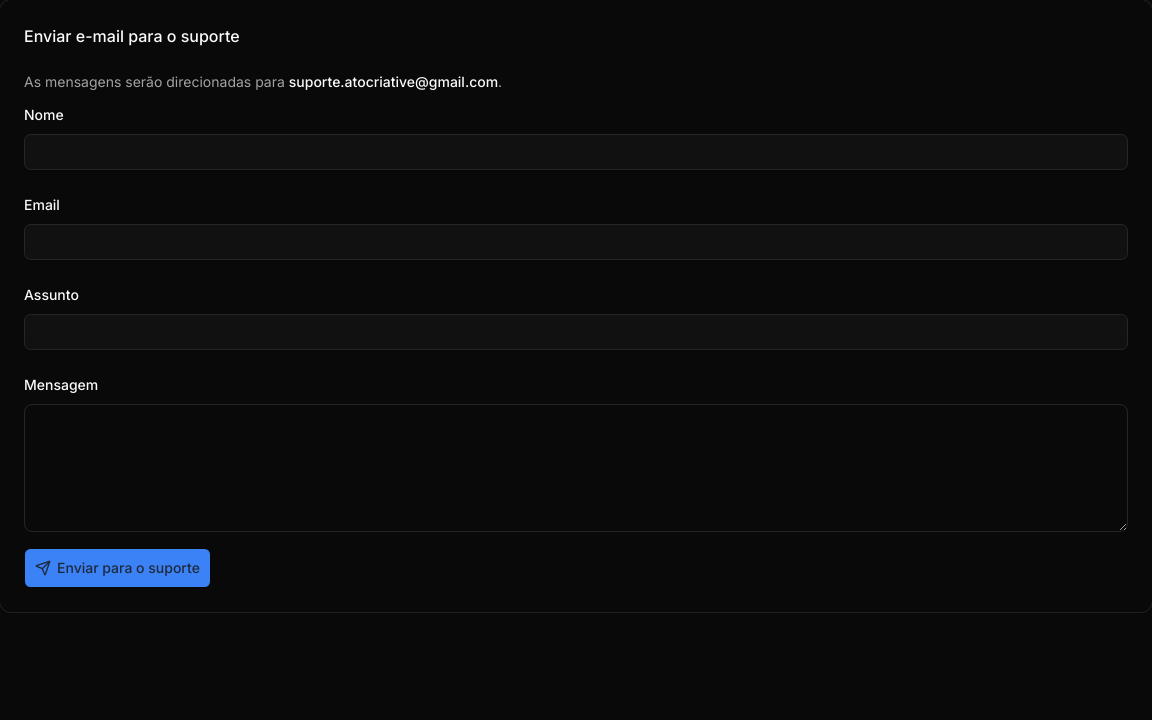
support email form › form validation › rejects empty name field
The width and height of the screenshot is (1152, 720).
Type "test@example.com" into the field labelled "Email" at {"x": 576, "y": 242}, box [24,224,1128,260]
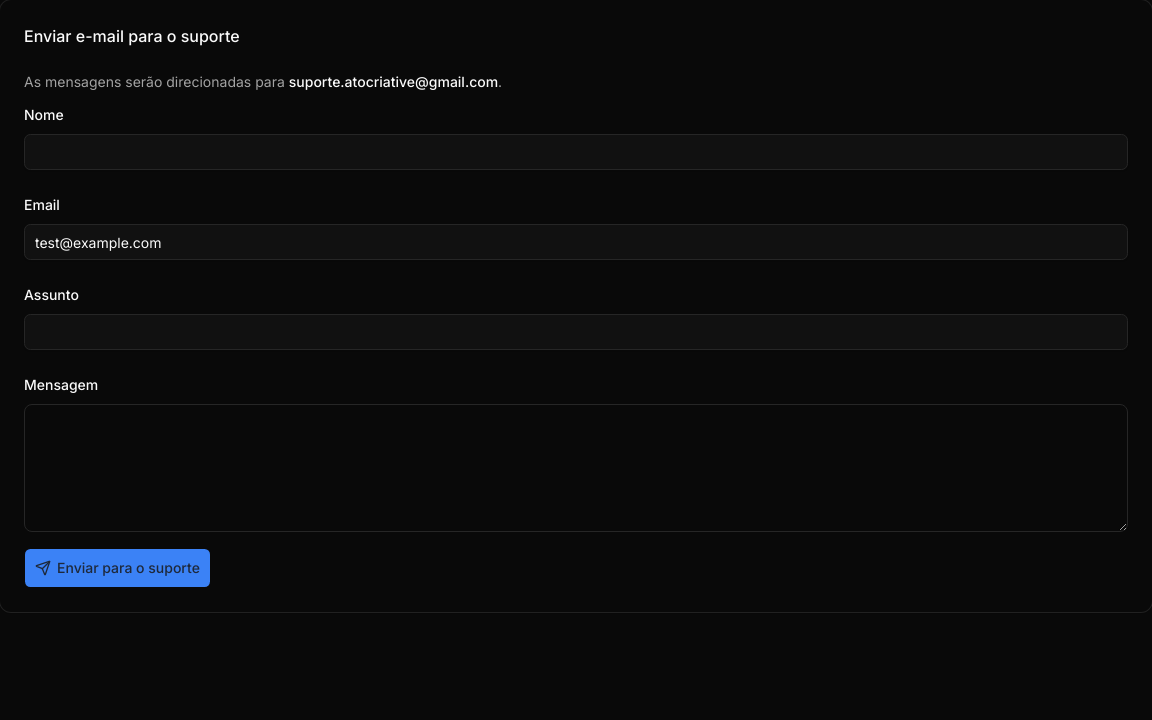
Type "Subject" into the field labelled "Assunto" at {"x": 576, "y": 332}, box [24,314,1128,350]
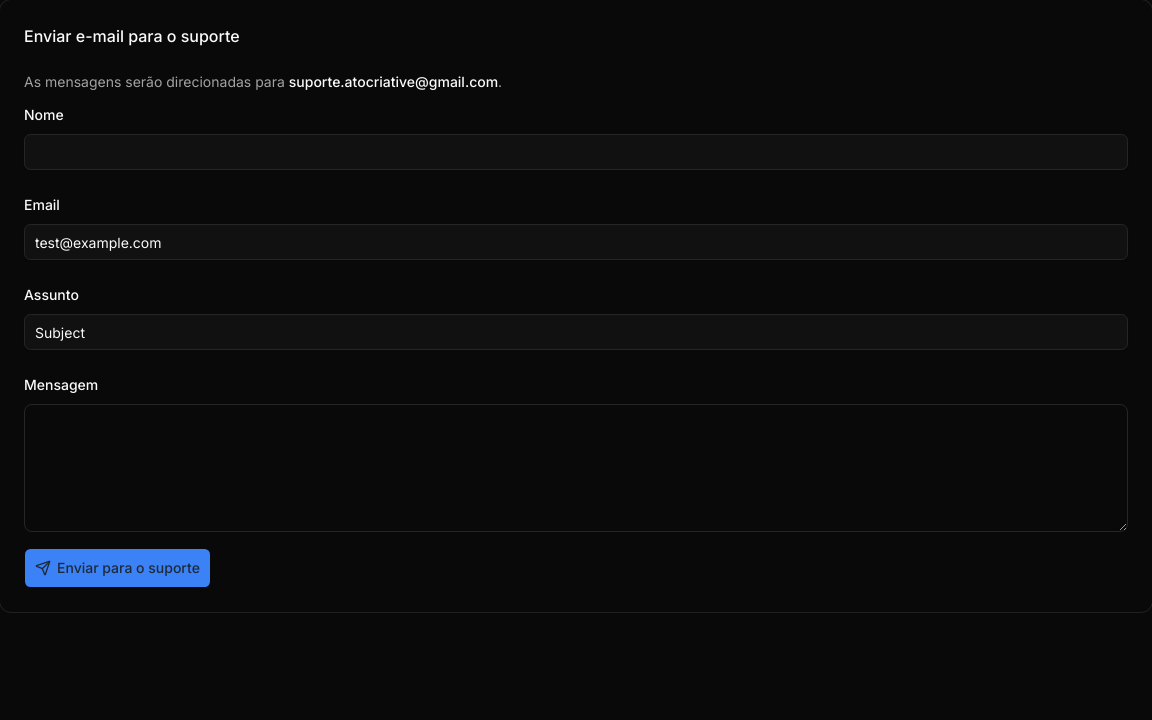
Type "Message content" into the text box labelled "Mensagem" at {"x": 576, "y": 468}, box [24,404,1128,532]
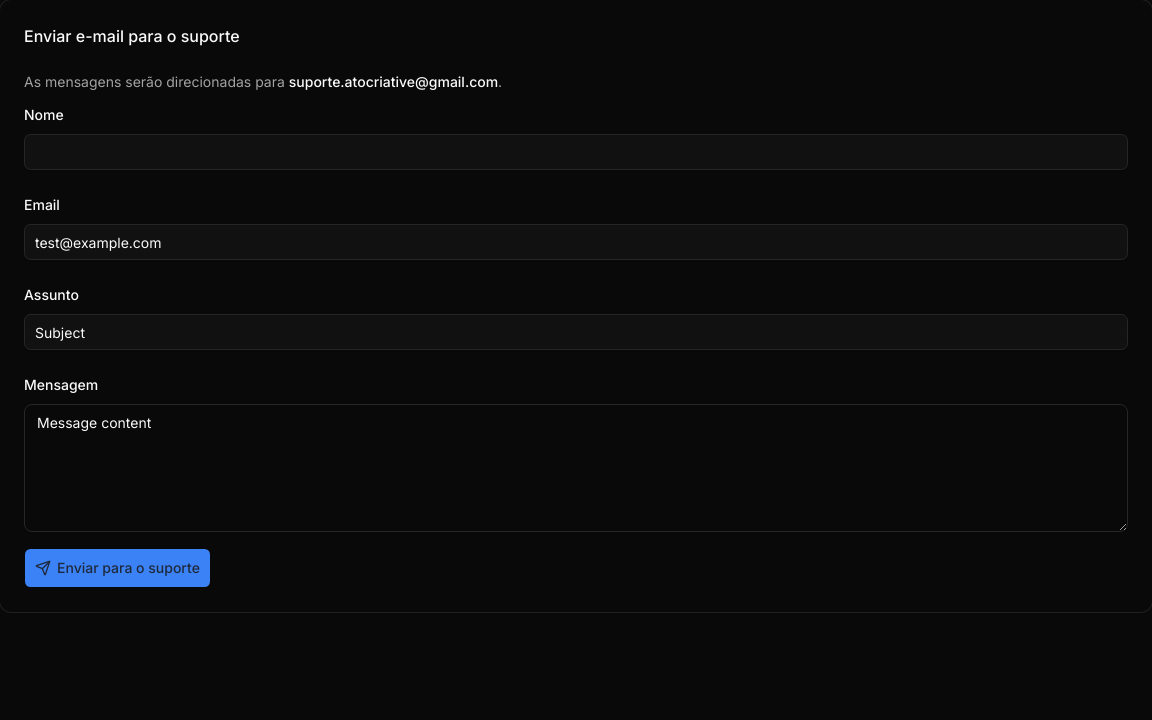
Click the button "Enviar para o suporte" at {"x": 117, "y": 568}, box [24,548,211,588]
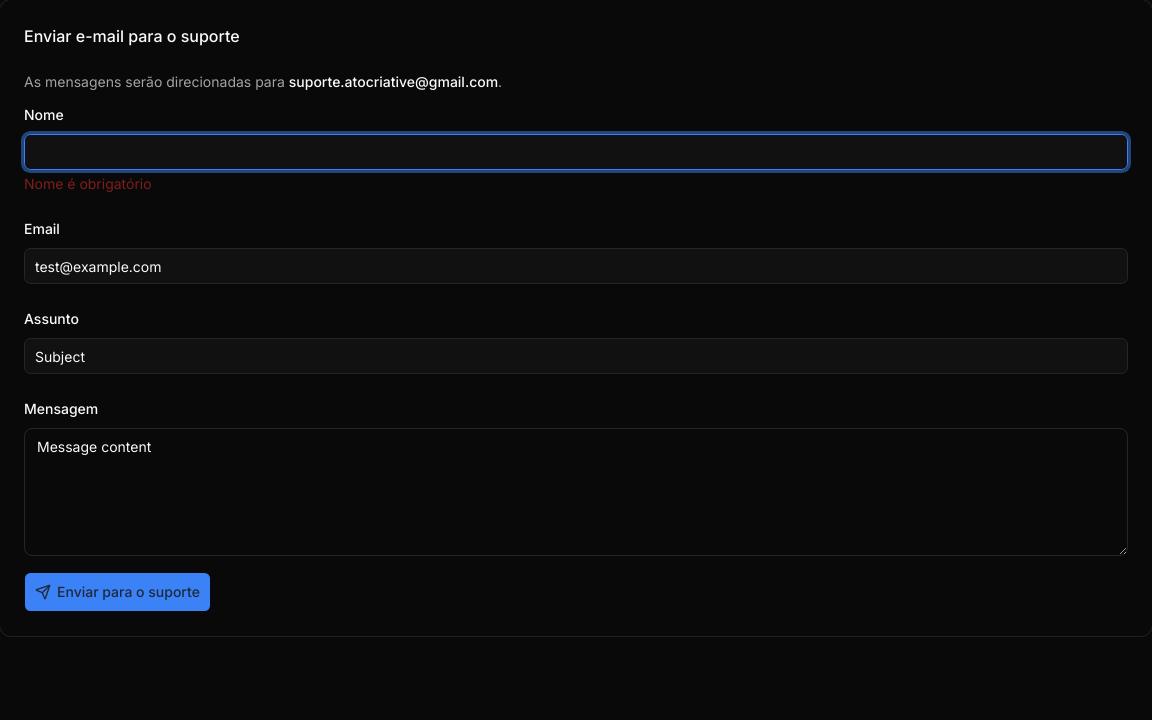
Now the text "Nome é obrigatório" is shown, box [24,175,152,192]
